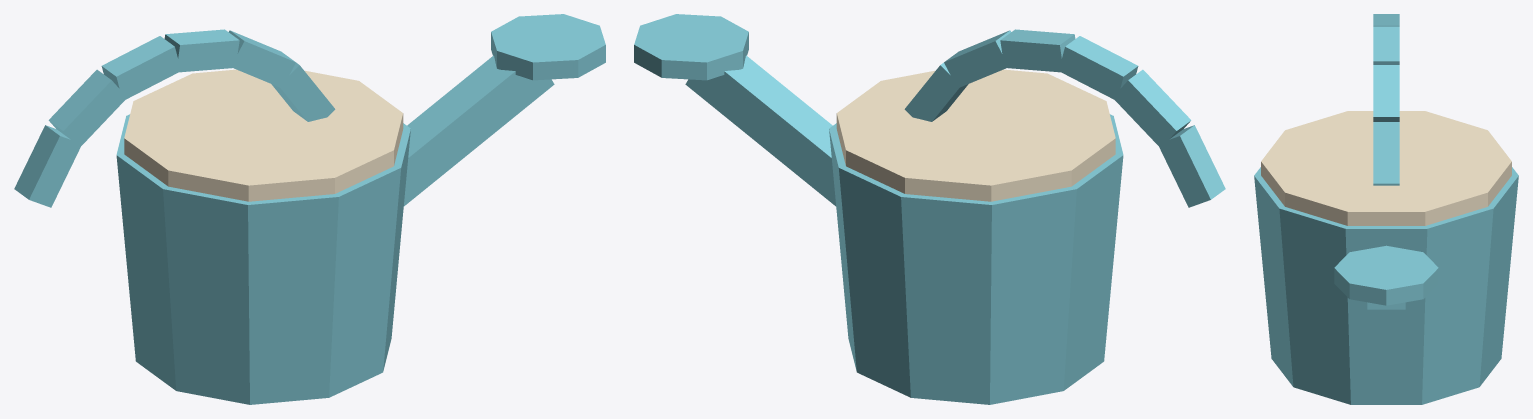
Rendered from tool_watering_can.glb.
3 views of the same model, side by side, from view 1: azimuth 30°, elevation 25°; view 2: azimuth 150°, elevation 25°; view 3: azimuth 270°, elevation 25° (orthographic). The views are drawn at different scales.
Visible parts, largest first — view 1: can body, open cream rim, angled spout, shower rose, rounded can handle.005, rounded can handle.004, rounded can handle.003, rounded can handle.002, rounded can handle.001, rounded can handle; view 2: can body, open cream rim, angled spout, shower rose, rounded can handle.005, rounded can handle.004, rounded can handle.003, rounded can handle.002, rounded can handle.001, rounded can handle; view 3: can body, open cream rim, shower rose, rounded can handle, rounded can handle.001, rounded can handle.002, rounded can handle.003, angled spout.
Boxes of the visible parts, x1,y1,x2,y2 form: can body: (116,114,410,404); open cream rim: (124,69,403,201); angled spout: (403,55,554,206); shower rose: (491,14,605,80); rounded can handle.005: (14,125,80,207); rounded can handle.004: (48,69,125,148); rounded can handle.003: (101,36,180,100); rounded can handle.002: (164,29,239,72); rounded can handle.001: (229,30,295,87); rounded can handle: (271,62,335,121); can body: (829,114,1123,404); open cream rim: (836,69,1115,201); angled spout: (685,55,836,206); shower rose: (634,14,748,80); rounded can handle.005: (1158,125,1225,207); rounded can handle.004: (1113,69,1191,148); rounded can handle.003: (1061,36,1138,100); rounded can handle.002: (1000,29,1075,72); rounded can handle.001: (944,30,1010,87); rounded can handle: (904,62,968,121); can body: (1254,167,1518,404); open cream rim: (1261,111,1511,225); shower rose: (1334,245,1438,305); rounded can handle: (1373,122,1399,185); rounded can handle.001: (1373,65,1399,121); rounded can handle.002: (1373,27,1399,64); rounded can handle.003: (1373,14,1399,26); angled spout: (1367,302,1405,309).
Size of the model in its own units: 1.69 by 0.9265 by 0.76.
